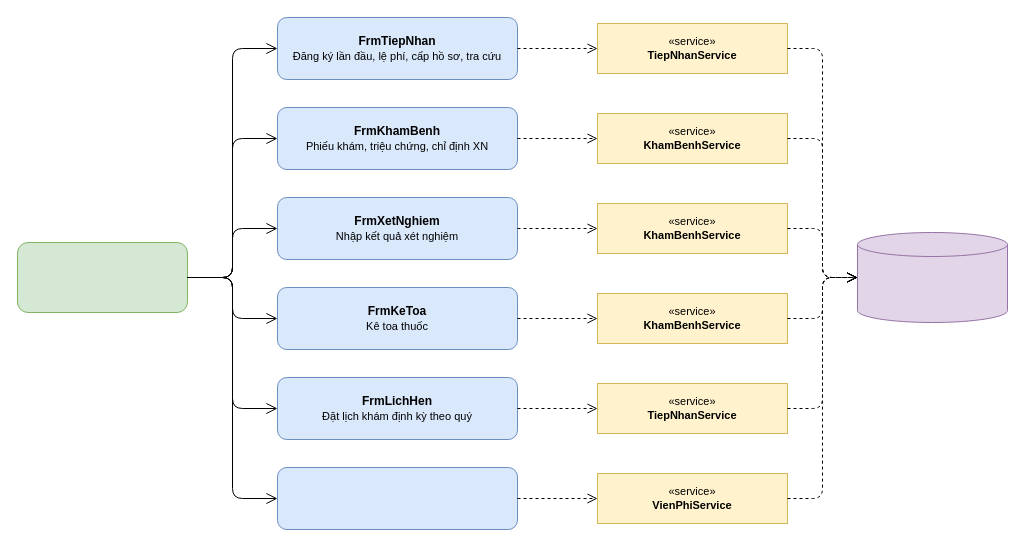
Some shapes in this 1025 by 547 pixel diagram are drawn without their labels. The shapes that lost their labels are listed below. From the top down, each one's centre as x and y in pixels, then its label:
At point (102, 277): "FrmMain".
At point (932, 277): "SQL Server QuanLyBenhAn".
At point (397, 498): "FrmXuatVien Thanh toán viện phí, hoàn tất".
